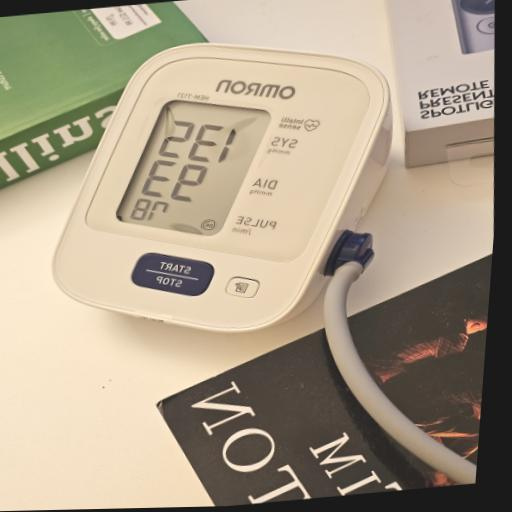blood pressure monitor: (31, 24, 423, 355)
